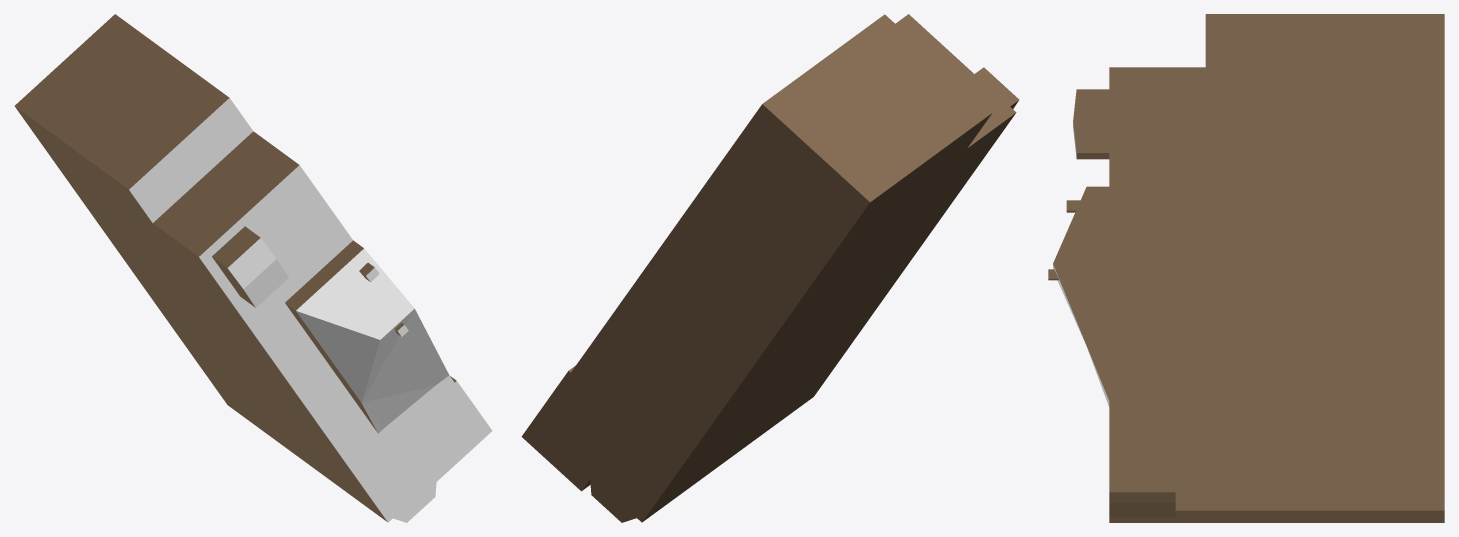
The picture shows the model from 3 angles, left to right: view 1: azimuth 30°, elevation 25°; view 2: azimuth 150°, elevation 25°; view 3: azimuth 270°, elevation 25°; orthographic projection. The views are drawn at different scales.
Parts seen in each view (by area): view 1: City_PC-08690; view 2: City_PC-08690; view 3: City_PC-08690.
Part boxes in pixels (bbox=[...]): City_PC-08690: bbox=[14, 14, 492, 522]; City_PC-08690: bbox=[521, 14, 1019, 522]; City_PC-08690: bbox=[1048, 14, 1444, 522].
Bounding box in the file's own units: 1843 × 2289 × 1860.
